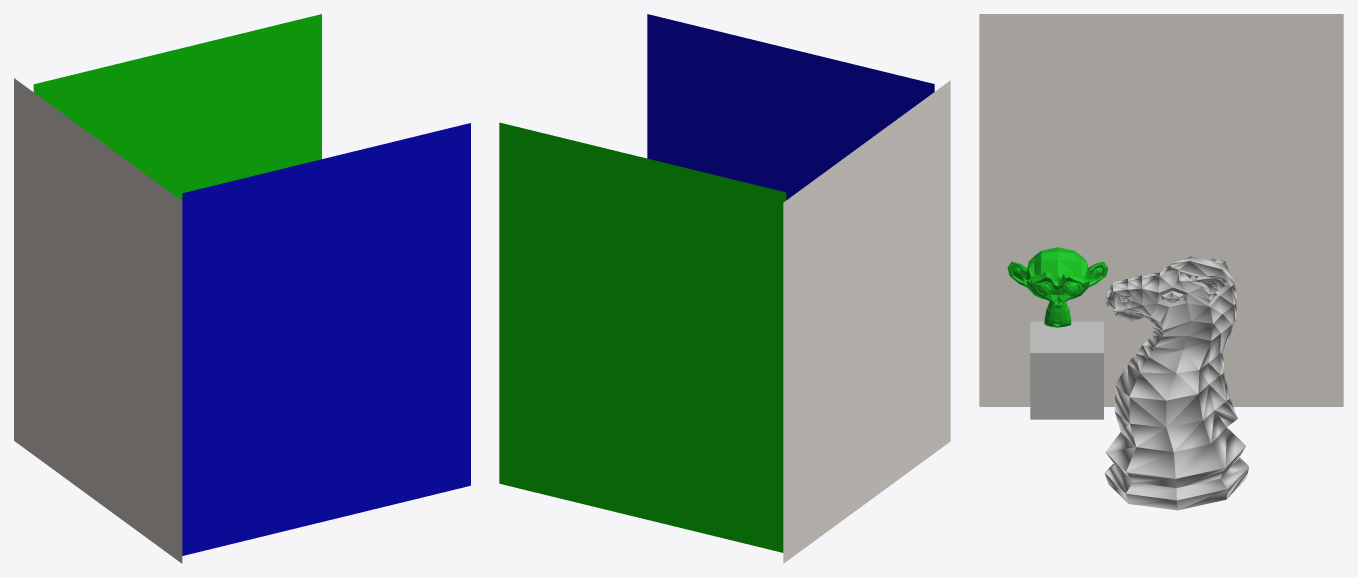
File: Untitled copie.obj
3 renders of one model, left to right at view 1: azimuth 30°, elevation 25°; view 2: azimuth 150°, elevation 25°; view 3: azimuth 270°, elevation 25°, orthographic. The views are drawn at different scales.
Parts seen in each view (by area): view 1: Plane, Plane.002, Plane.001; view 2: Plane.001, Plane.002, Plane; view 3: Plane.002, LOW_POLY_piece_Knight_FINAL, Cube, Suzanne.
Part boxes in pixels (bbox=[...]): Plane: bbox=[182, 123, 470, 555]; Plane.002: bbox=[14, 78, 182, 563]; Plane.001: bbox=[33, 14, 321, 200]; Plane.001: bbox=[499, 122, 786, 552]; Plane.002: bbox=[783, 80, 950, 563]; Plane: bbox=[647, 14, 934, 199]; Plane.002: bbox=[979, 14, 1343, 406]; LOW_POLY_piece_Knight_FINAL: bbox=[1104, 256, 1248, 510]; Cube: bbox=[1030, 321, 1103, 419]; Suzanne: bbox=[1007, 247, 1108, 327].
Bounding box in the file's own units: 10.06 × 11.76 × 9.88.
